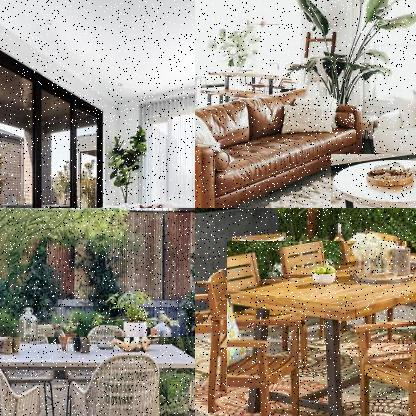table: (227, 241, 415, 415), (0, 337, 194, 415), (331, 154, 415, 207)
